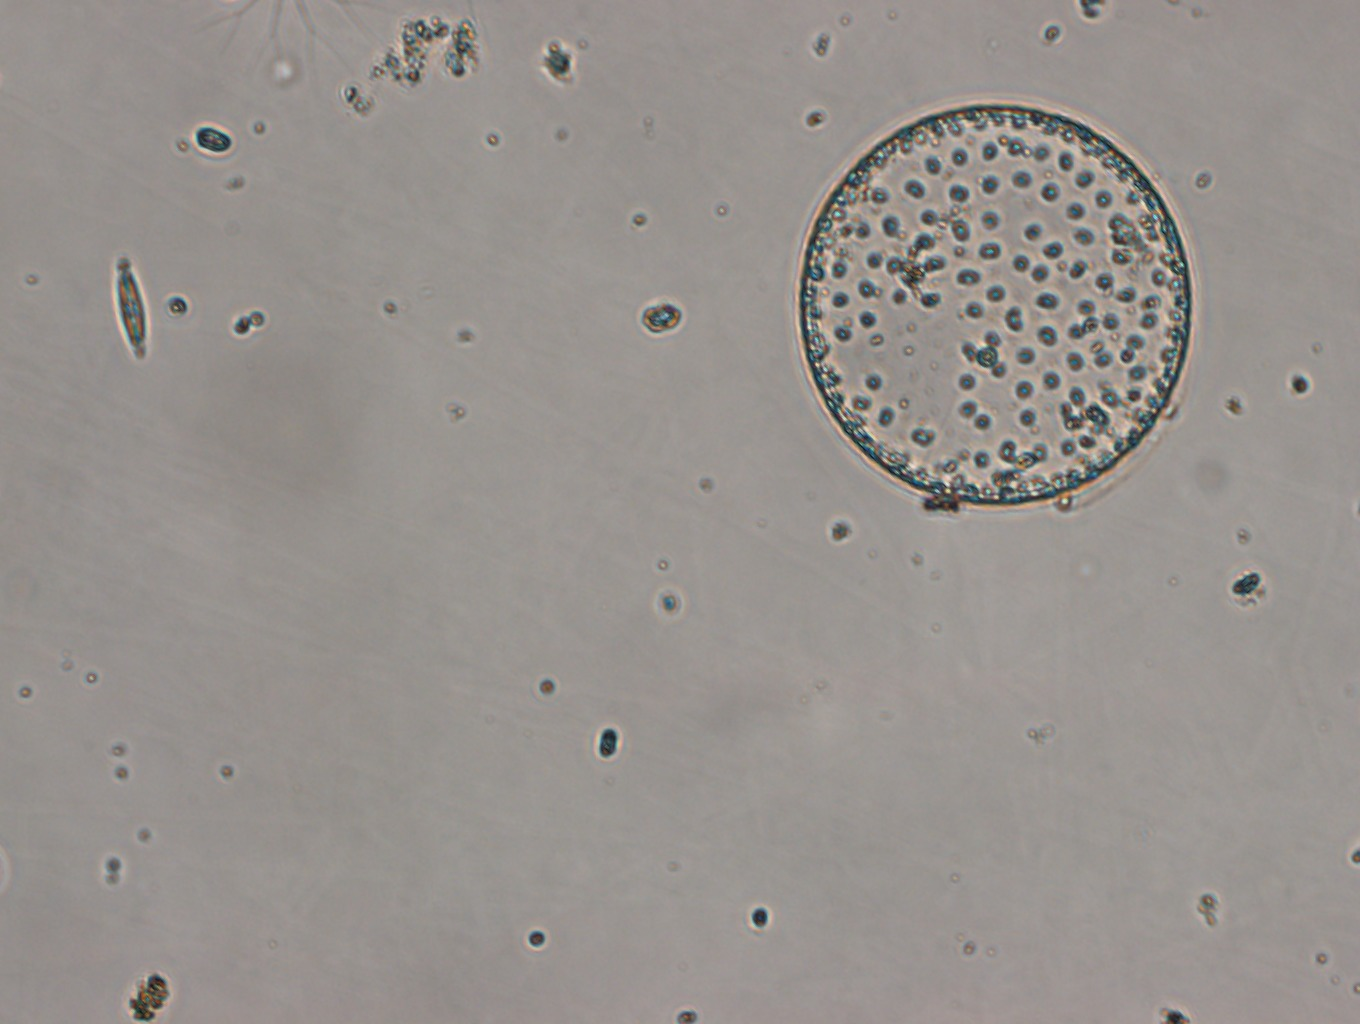coscinodiscus: (799, 101, 1192, 507)
navicula: (109, 255, 152, 362)
